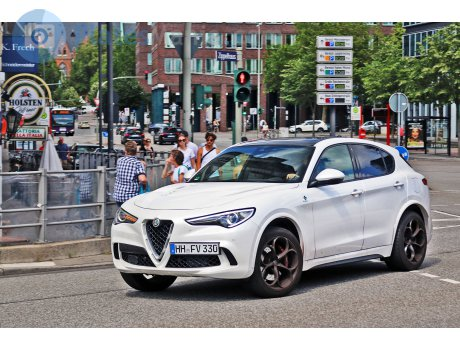License Plates: (173, 242, 213, 250)
